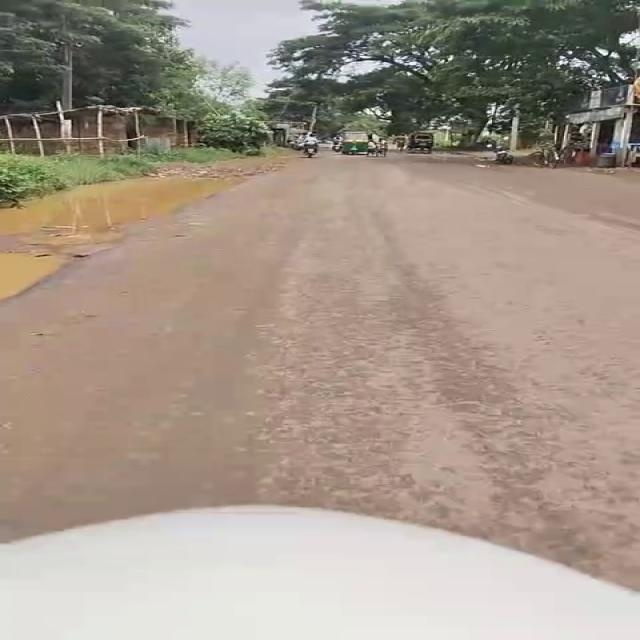pothole: (4, 175, 238, 229), (0, 254, 61, 299)
